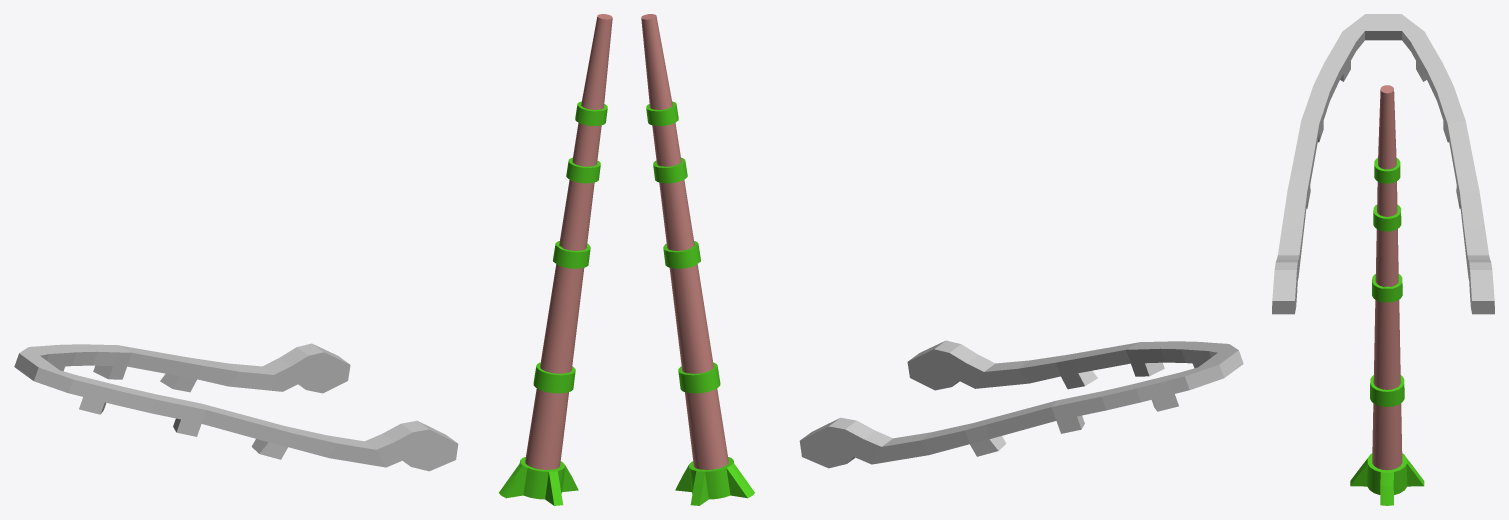
Rendered from Boat_PartsfixedAlpha.fbx.
3 views of the same model, side by side, from view 1: azimuth 30°, elevation 25°; view 2: azimuth 150°, elevation 25°; view 3: azimuth 270°, elevation 25° (orthographic). The views are drawn at different scales.
Parts seen in each view (by area): view 1: MainRailing_low, ForeMast_low; view 2: MainRailing_low, ForeMast_low; view 3: MainRailing_low, ForeMast_low.
Boxes of the visible parts, left/top/right/bottom form: MainRailing_low: left=14, top=343, right=458, bottom=471; ForeMast_low: left=499, top=14, right=612, bottom=505; MainRailing_low: left=799, top=340, right=1243, bottom=468; ForeMast_low: left=641, top=14, right=754, bottom=505; MainRailing_low: left=1272, top=14, right=1494, bottom=314; ForeMast_low: left=1350, top=85, right=1424, bottom=505.
Size of the model in its own units: 1353 by 1019 by 478.
